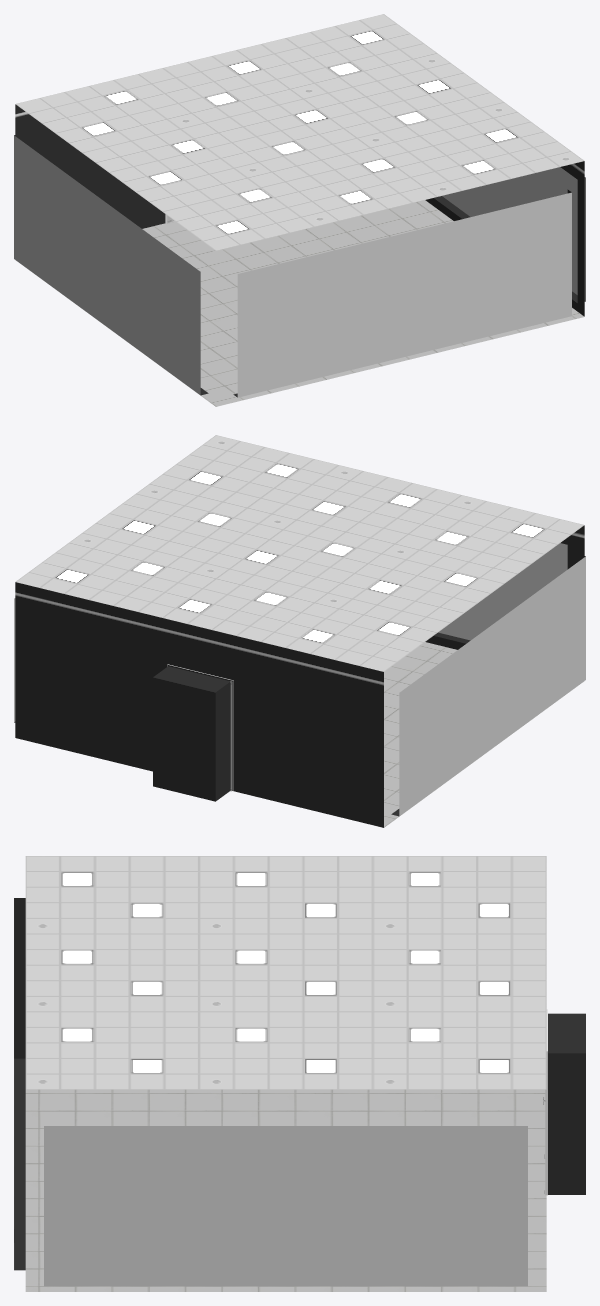
File: VR_Room.fbx
3 renders of one model, top to bottom at view 1: azimuth 30°, elevation 25°; view 2: azimuth 150°, elevation 25°; view 3: azimuth 270°, elevation 25°, orthographic. The views are drawn at different scales.
Parts seen in each view (by area): view 1: Roof, front_wall, Right_wall, Ground, Left_wall, Entrance_wall; view 2: Roof, Entrance_wall, Right_wall, front_wall, Ground, Glass_door; view 3: Roof, Left_wall, Ground, Entrance_wall, front_wall.
Part boxes in pixels (box(x1,y1,x2,y2)): Roof: box(15, 14, 584, 250); front_wall: box(233, 189, 571, 397); Right_wall: box(14, 133, 208, 395); Ground: box(17, 200, 584, 406); Left_wall: box(425, 161, 585, 316); Entrance_wall: box(15, 104, 164, 228); Roof: box(15, 435, 584, 671); Entrance_wall: box(15, 582, 383, 827); Right_wall: box(391, 554, 585, 816); front_wall: box(425, 525, 584, 649); Ground: box(384, 642, 582, 827); Glass_door: box(167, 664, 233, 791); Roof: box(25, 856, 546, 1089); Left_wall: box(44, 1126, 527, 1286); Ground: box(25, 1089, 546, 1291); Entrance_wall: box(548, 1013, 585, 1194); front_wall: box(14, 898, 25, 1270).
Size of the model in its own units: 809 by 316 by 817.
